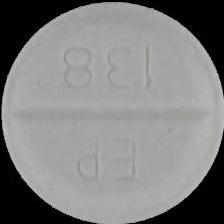61786-018: (0, 0, 224, 224)
